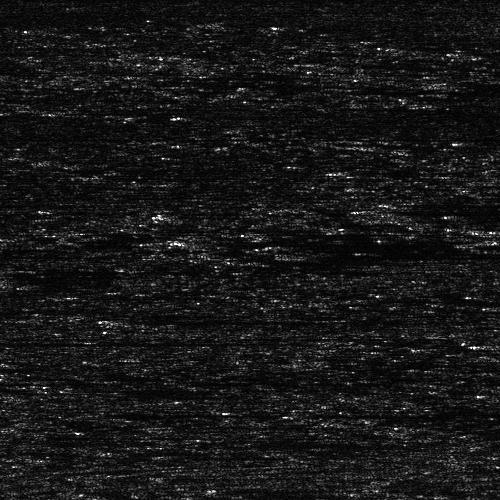object: (326, 191, 409, 228), (450, 229, 500, 256), (114, 236, 219, 245), (72, 317, 165, 326), (444, 342, 500, 347)
shadow: (368, 191, 500, 228), (0, 334, 279, 347), (166, 236, 424, 245), (119, 317, 364, 326), (0, 306, 96, 313), (476, 342, 500, 347)
